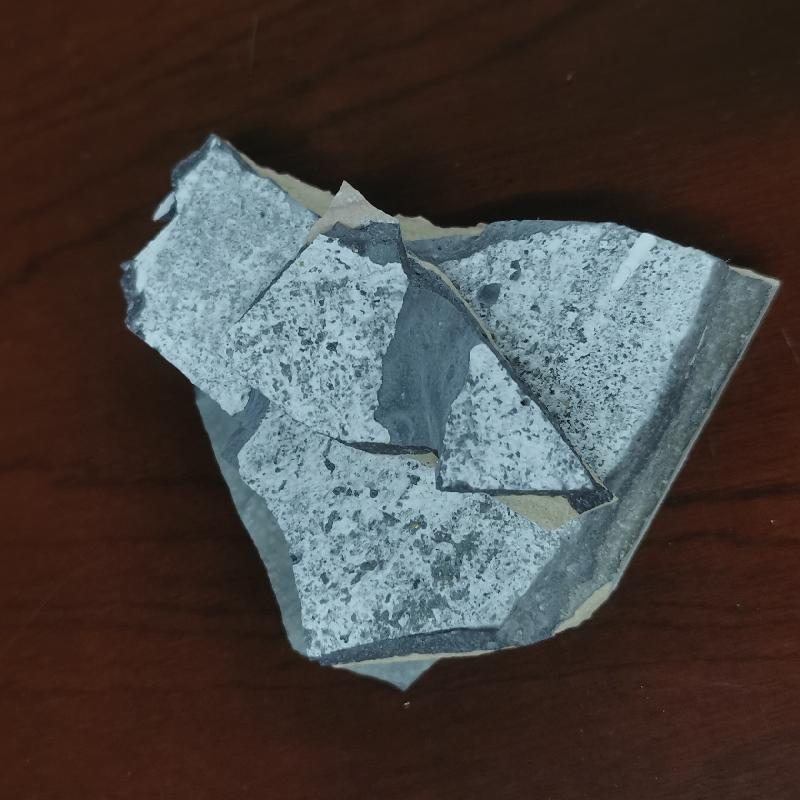tile: (118, 132, 785, 698)
